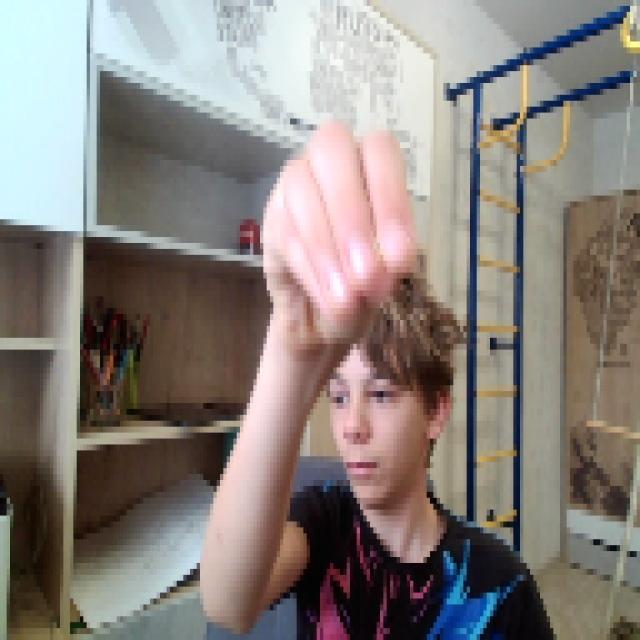left_click: (256, 106, 416, 338)
